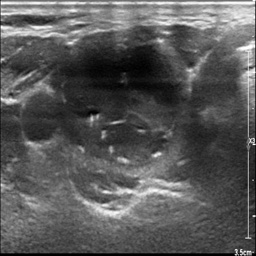mass: (68, 32, 176, 203)
